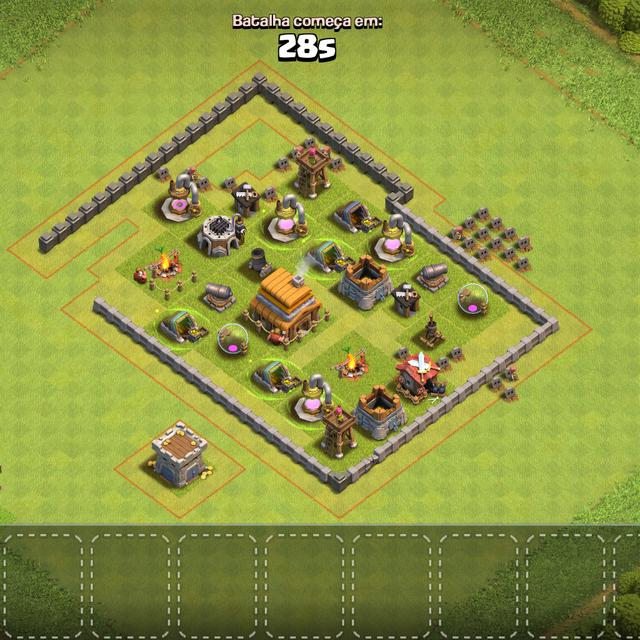Arqueira: (319, 402, 359, 462), (294, 143, 332, 203)
Canhao: (202, 279, 240, 315), (415, 260, 453, 294)
